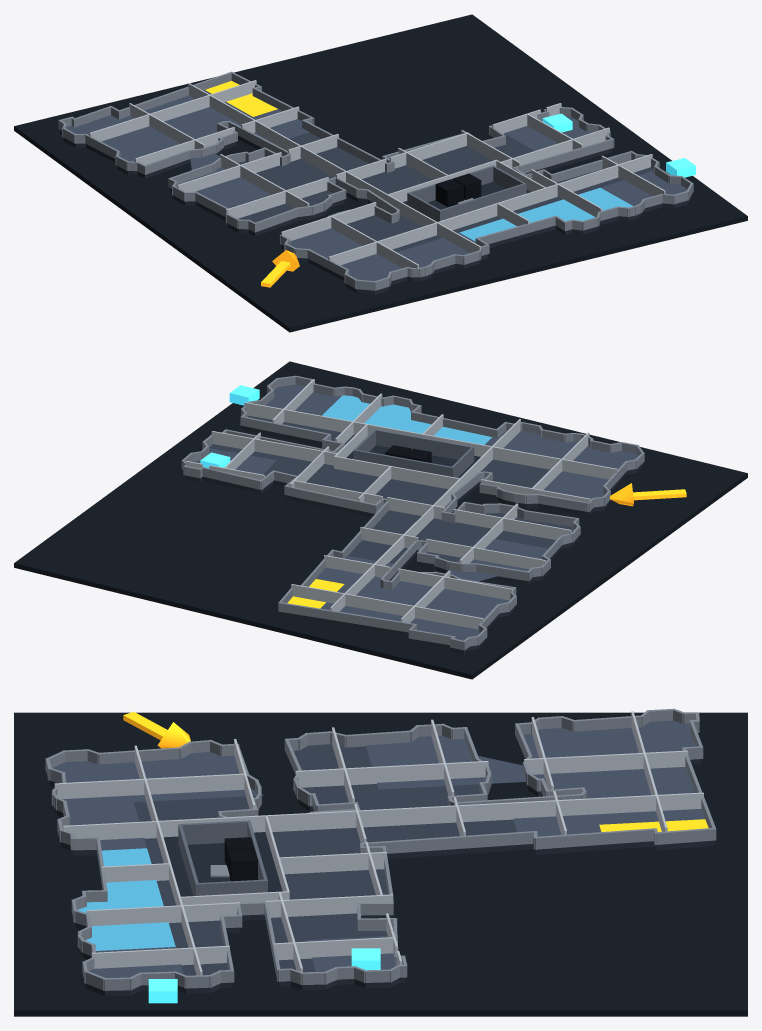
The picture shows the model from 3 angles, top to bottom: view 1: azimuth 30°, elevation 25°; view 2: azimuth 150°, elevation 25°; view 3: azimuth 270°, elevation 25°; orthographic projection. The views are drawn at different scales.
Parts seen in each view (by area): view 1: FireSight 400 Duboce Ave floor 4; view 2: FireSight 400 Duboce Ave floor 4; view 3: FireSight 400 Duboce Ave floor 4.
Boxes of the visible parts, x1,y1,x2,y2 form: FireSight 400 Duboce Ave floor 4: [14, 14, 747, 332]; FireSight 400 Duboce Ave floor 4: [14, 361, 747, 679]; FireSight 400 Duboce Ave floor 4: [14, 708, 747, 1016].
Bounding box in the file's own units: 0.6302 × 0.037 × 0.6567.
